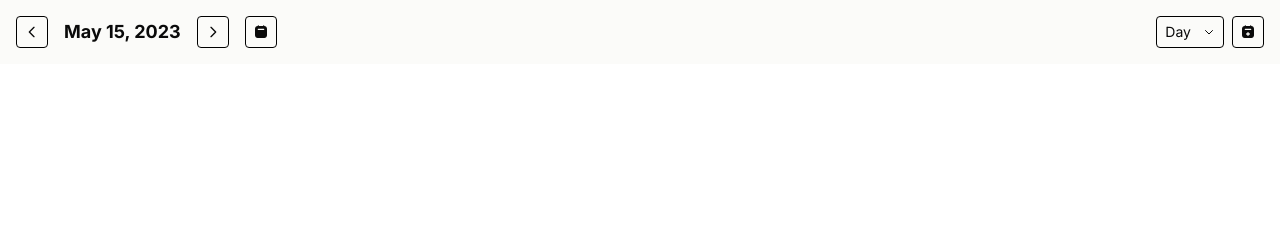
it: CalendarHeader › opens view dropdown when clicked
Click the button "Day".
click(1190, 32)  # box [1156,16,1224,48]
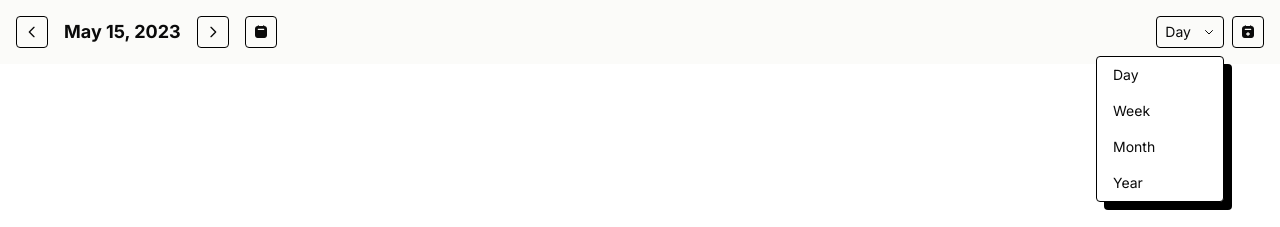
Expected: the button "Week" is shown, [1097,93,1223,129]
Expected: the button "Month" is shown, [1097,129,1223,165]
